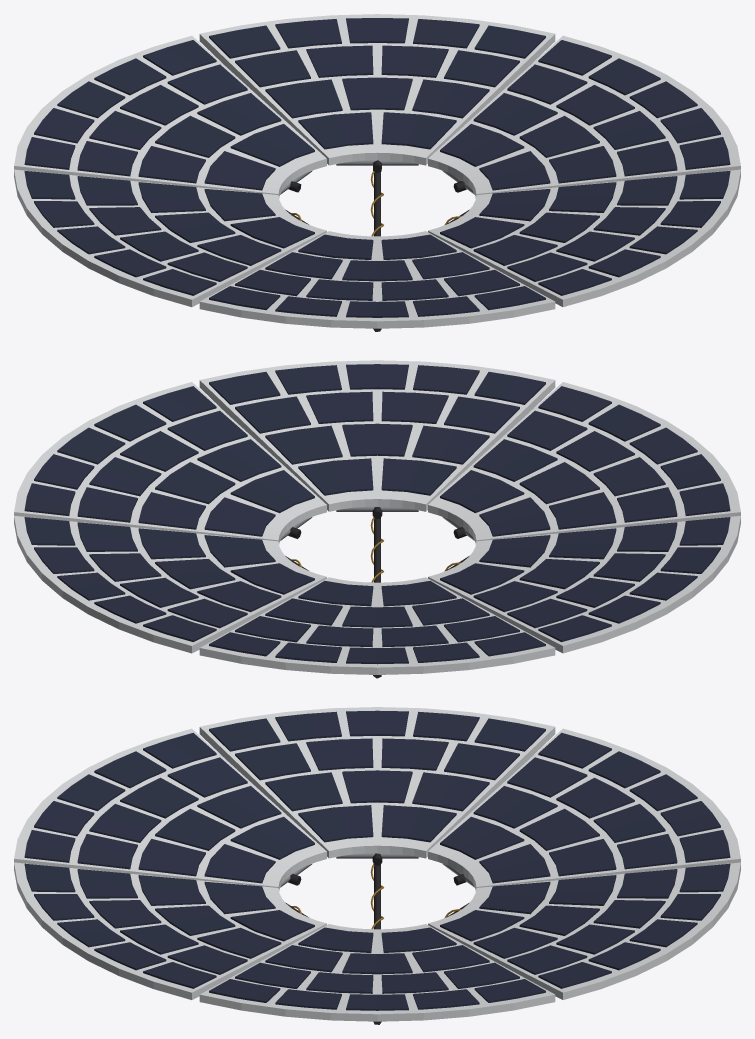
File: pa100_array.obj
3 views of the same model, one above another, from view 1: azimuth 30°, elevation 25°; view 2: azimuth 150°, elevation 25°; view 3: azimuth 270°, elevation 25° (orthographic).
Parts seen in each view (by area): view 1: pa100_array; view 2: pa100_array; view 3: pa100_array.
Part boxes in pixels (box(x1,y1,x2,y2)): pa100_array: box(14, 14, 740, 331); pa100_array: box(14, 360, 740, 678); pa100_array: box(14, 707, 740, 1024).
Bounding box in the file's own units: 4.41 × 0.6846 × 4.41.
